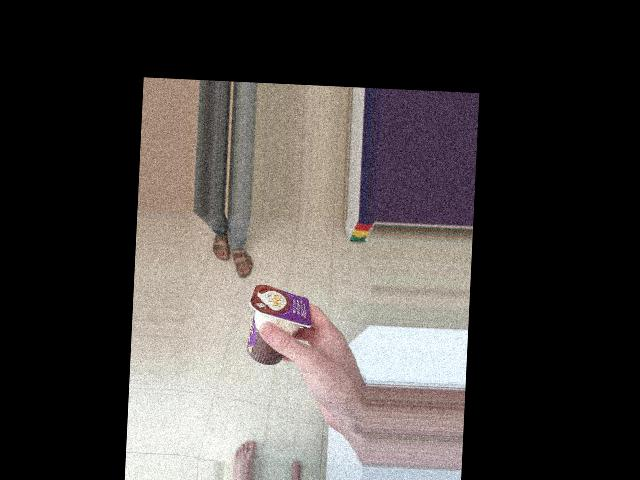milky: (206, 274, 300, 338)
